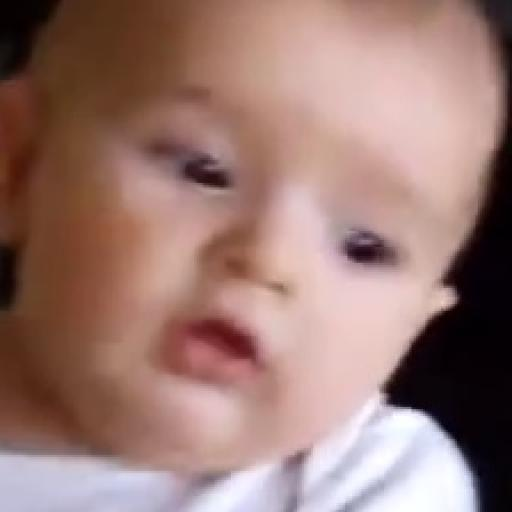Autism: (14, 5, 485, 512)
